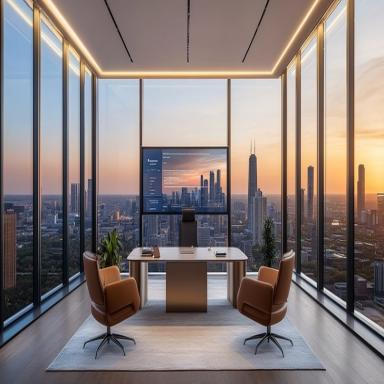glass_panel: (2, 2, 32, 331), (232, 79, 282, 276), (355, 3, 384, 331), (98, 81, 139, 275), (324, 3, 348, 306), (39, 14, 62, 300), (142, 80, 228, 144), (143, 150, 226, 212), (302, 28, 318, 280), (68, 46, 81, 287), (142, 214, 228, 246), (287, 56, 298, 269), (84, 63, 94, 267)
